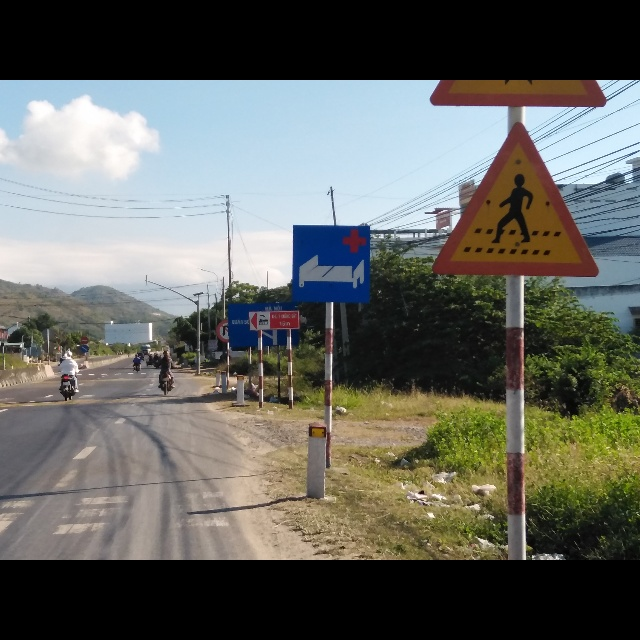Bệnh viện: (290, 226, 371, 308)
Đường người đi bộ sang đường: (433, 118, 601, 272)
